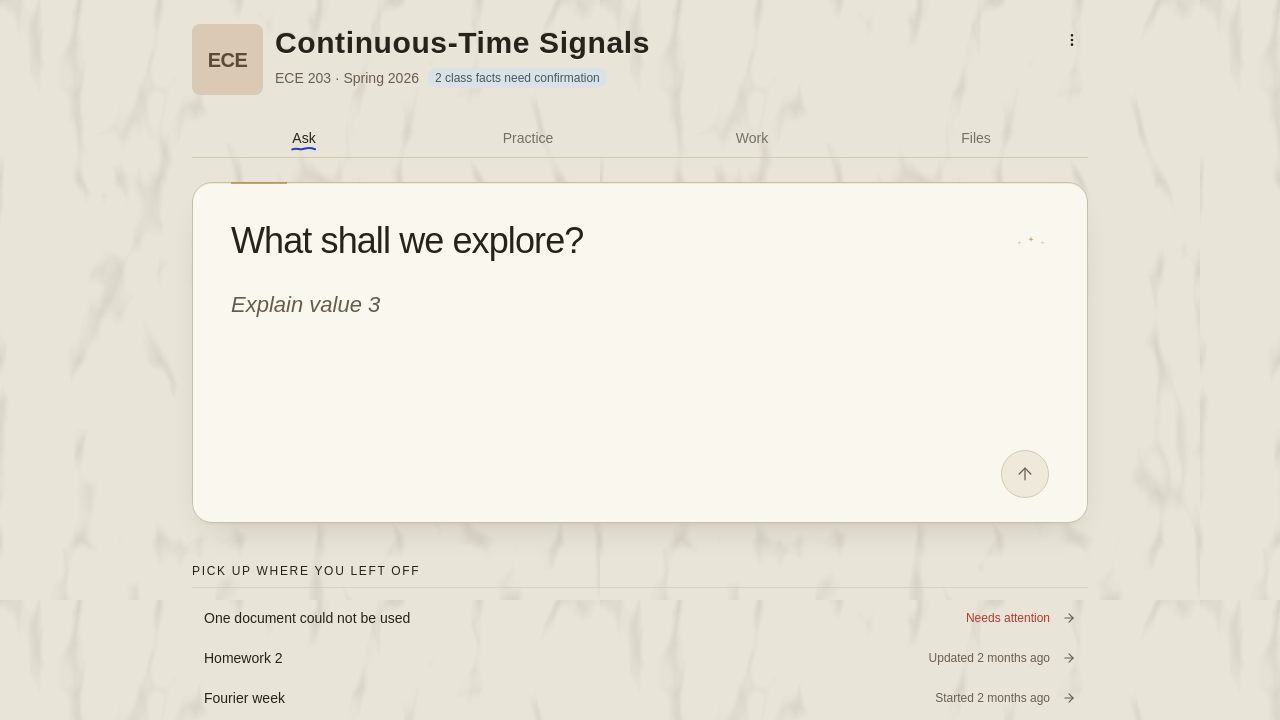
ClassHub › nudges for unconfirmed low-confidence facts from the class itself, into the details sheet
Click the button "2 class facts need confirmation".
click(517, 78)  # box 427,68 -> 608,88
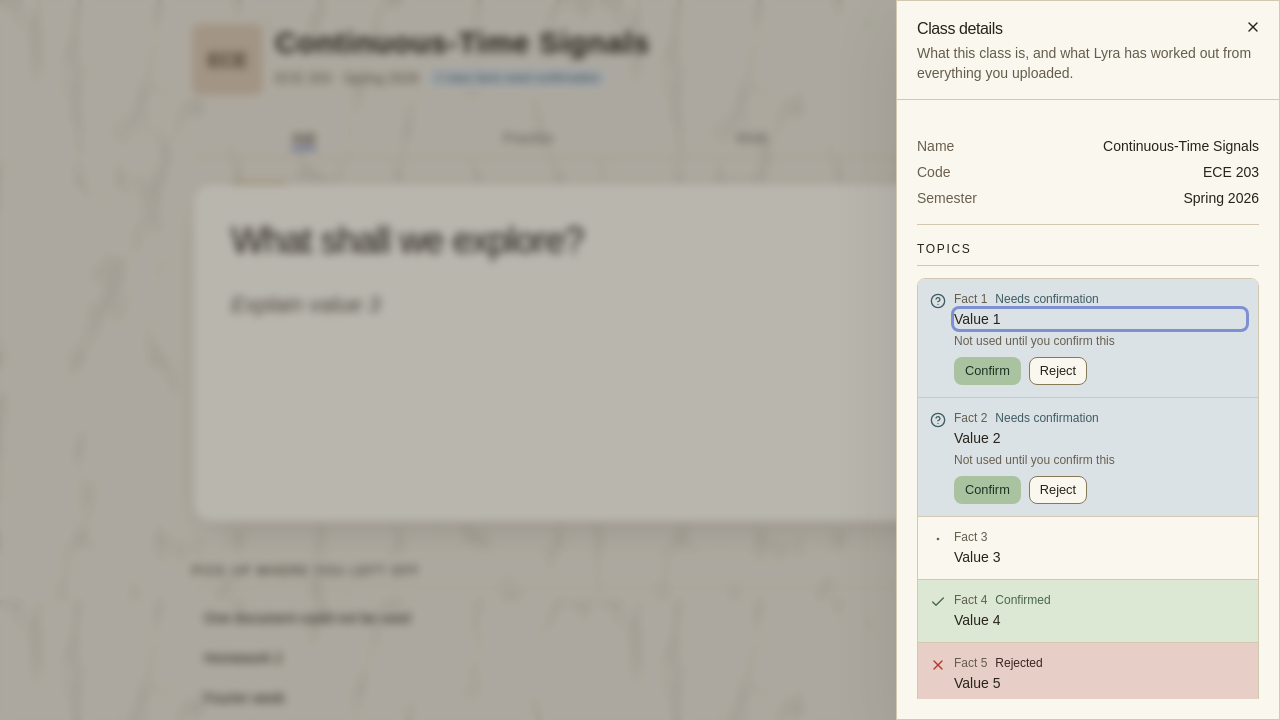
Result: the heading "Class details" is shown at 917,20 -> 1002,37
